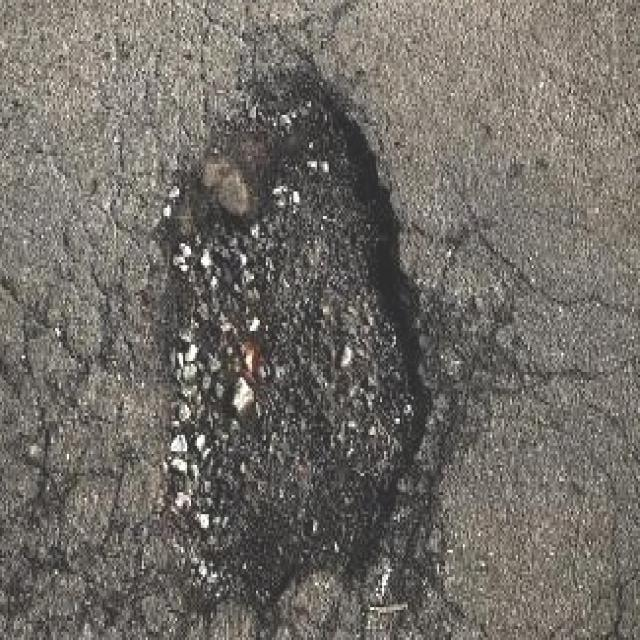road-pothole: (136, 34, 439, 632)
